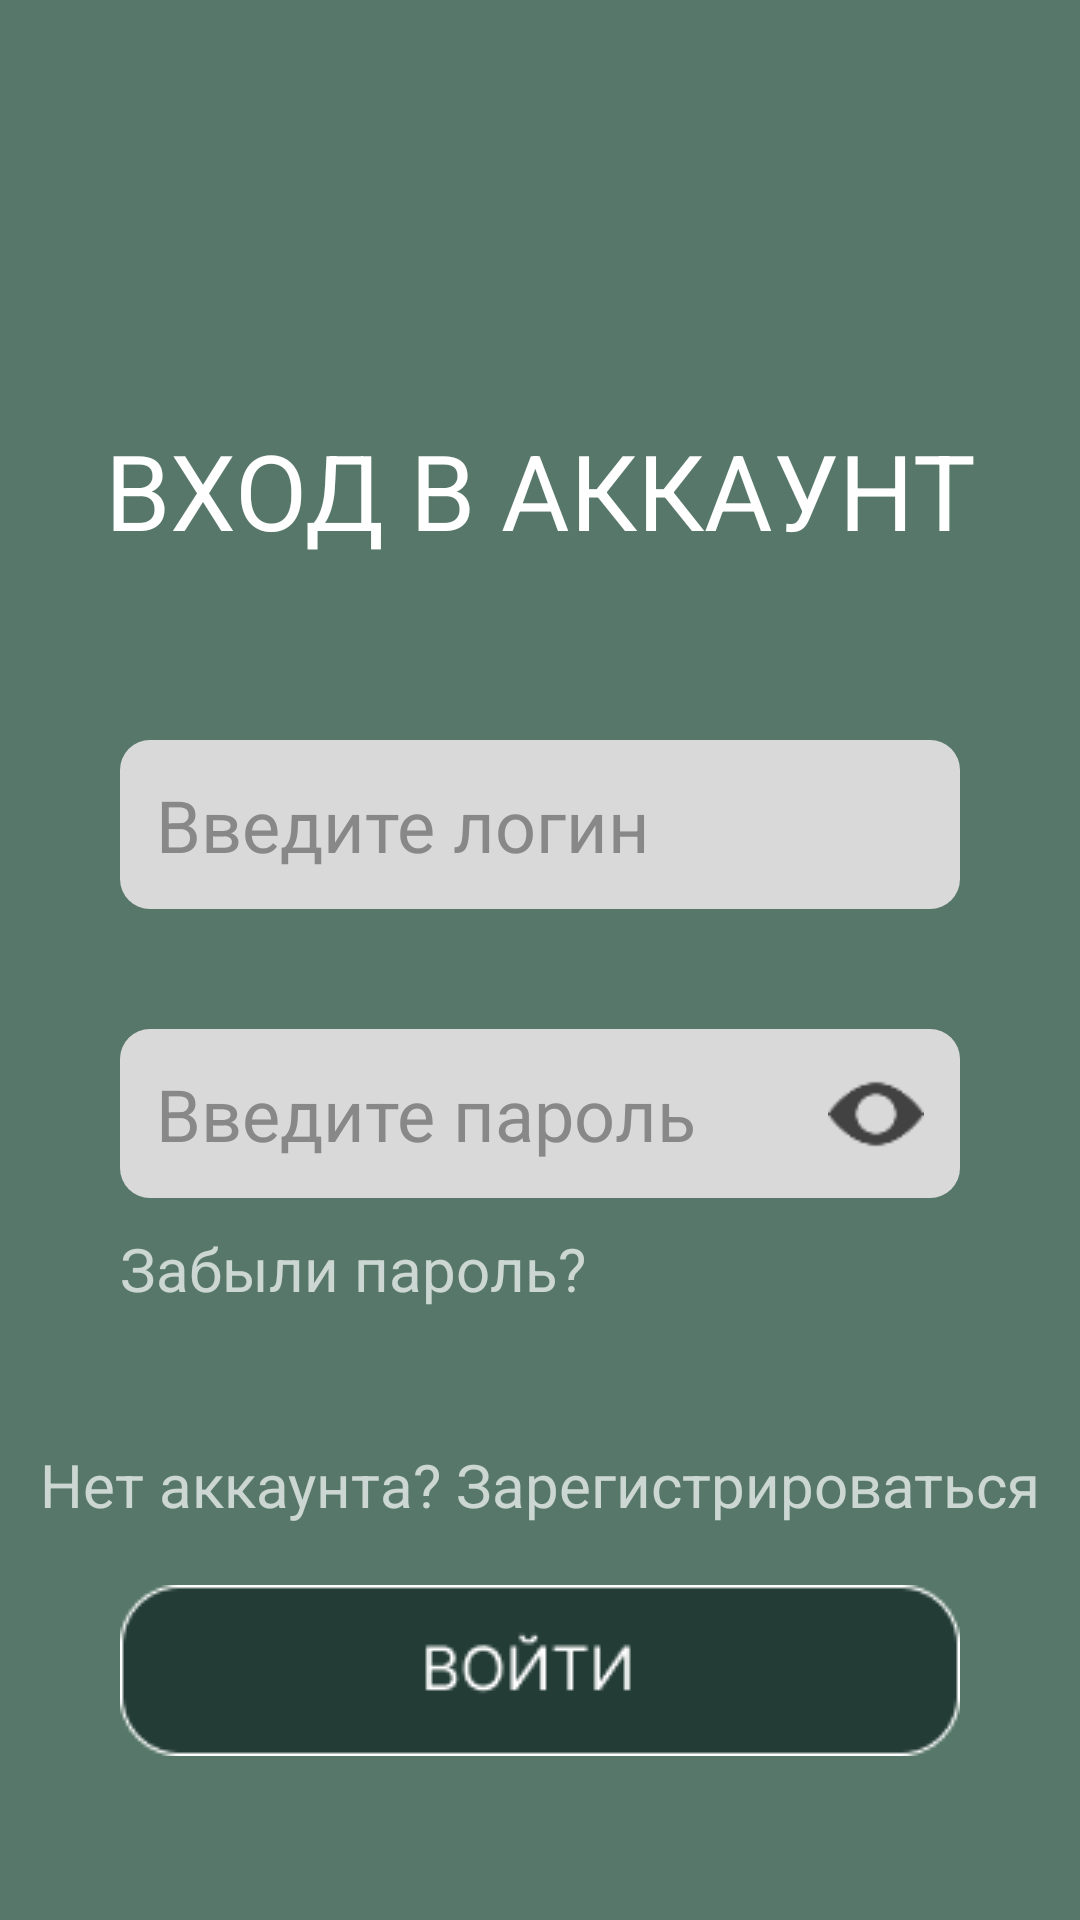

Icons on this 1080 x 1920 Android screen, each with its box as box=[x1, y1, x2, y2]:
Показать пароль: box=[828, 1082, 924, 1146]
